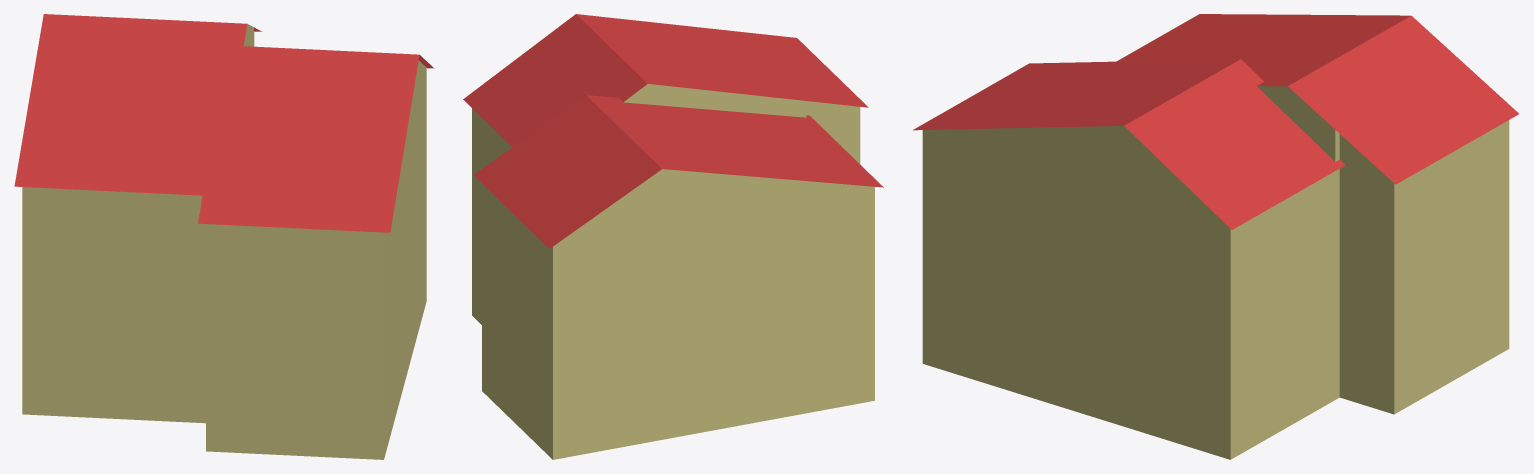
3 views of the same model, side by side, from view 1: azimuth 30°, elevation 25°; view 2: azimuth 150°, elevation 25°; view 3: azimuth 270°, elevation 25° (orthographic). The views are drawn at different scales.
Bounding box in the file's own units: 17.45 × 20.71 × 11.47.
